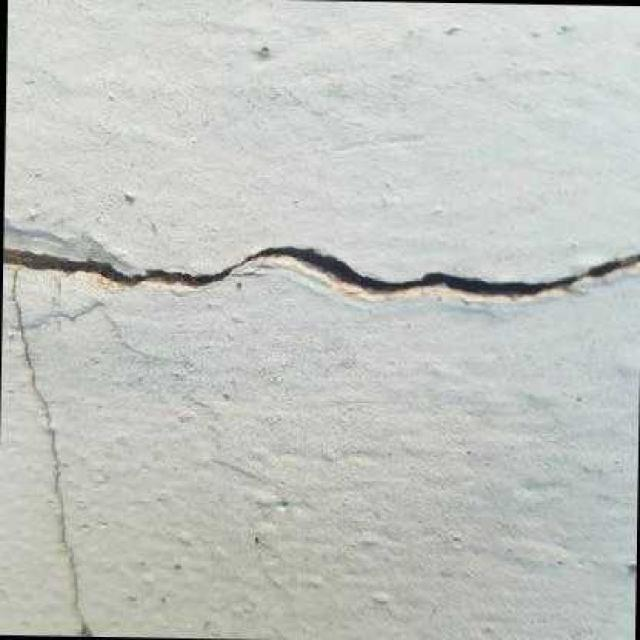D00: (1, 240, 640, 636)
